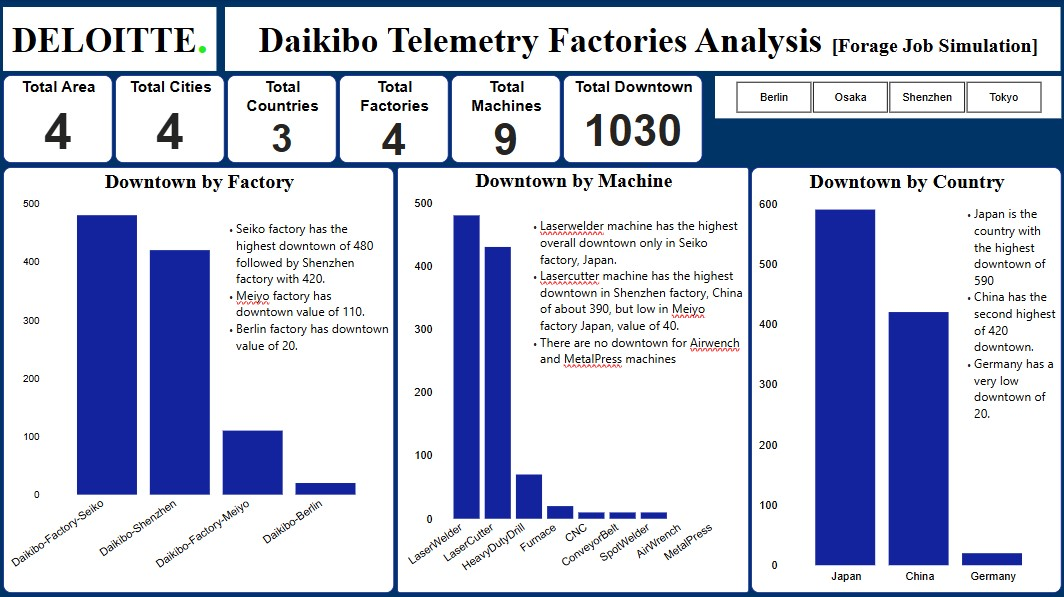

What the dashboard file says about the page in this screenshot:
{"tool":"powerbi","page":{"name":"Page 1","canvas":[1280,720],"ordinal":0},"visuals":[{"type":"clusteredColumnChart","title":"Downtime by Factory","fields":{"Category":["Dataset.Factory"],"Y":["Dataset.Downtown"]},"box":[4.1,202.3,462.5,513.4],"z":0},{"type":"clusteredColumnChart","title":"Downtime by Machine","fields":{"Y":["Dataset.Unhealthy"],"Category":["Dataset.Device Type"]},"box":[473.5,202.3,423.9,513.4],"z":1000},{"type":"clusteredColumnChart","title":"Downtime by Country","fields":{"Y":["Dataset.Downtown"],"Category":["Dataset.Country"]},"box":[904.2,202.8,373.6,512.5],"z":2000},{"type":"slicer","fields":{"Values":["Dataset.City"]},"box":[861.1,93.1,416.7,51.4],"z":3000},{"type":"textbox","box":[271.1,9.6,1006.1,77.1],"z":4000},{"type":"card","title":"Total Area","fields":{"Values":["Count(Dataset.Area)"]},"box":[4.2,91.7,131.9,105.6],"z":5000},{"type":"card","title":"Total Machines","fields":{"Values":["Count(Dataset.Device Type)"]},"box":[549.2,92.2,130.8,104.6],"z":6000},{"type":"card","title":"Total Countries","fields":{"Values":["Count(Dataset.Country)"]},"box":[276.6,92.2,132.1,104.6],"z":7000},{"type":"card","title":"Total Factories","fields":{"Values":["Count(Dataset.Factory)"]},"box":[412.9,92.2,132.1,104.6],"z":8000},{"type":"card","title":"Total Cities","fields":{"Values":["Count(Dataset.City)"]},"box":[140.4,92.2,132.1,104.6],"z":9000},{"type":"card","title":"Total Downtime","fields":{"Values":["Dataset.Downtown"]},"box":[684,92.2,169.3,104.6],"z":10000},{"type":"textbox","box":[4.1,9.6,257.4,77.1],"z":11000},{"type":"shape","box":[640,286.3,235.4,97.7],"z":12000},{"type":"shape","box":[1063.9,250.5,209.2,110.1],"z":13000},{"type":"shape","box":[261.5,260.1,195.4,123.9],"z":14000}]}

Visuals, with their boxes in screenshot pixels (x1, y1, x2, y2), scaled from the page's 1280x720 canvas onto the 1064x597 screenshot:
"Downtime by Factory" clusteredColumnChart: 3,168,388,593
"Downtime by Machine" clusteredColumnChart: 394,168,746,593
"Downtime by Country" clusteredColumnChart: 752,168,1062,593
slicer - Dataset.City: 716,77,1062,120
textbox: 225,8,1062,72
"Total Area" card: 3,76,113,164
"Total Machines" card: 457,76,565,163
"Total Countries" card: 230,76,340,163
"Total Factories" card: 343,76,453,163
"Total Cities" card: 117,76,227,163
"Total Downtime" card: 569,76,709,163
textbox: 3,8,217,72
shape: 532,237,728,318
shape: 884,208,1058,299
shape: 217,216,380,318
